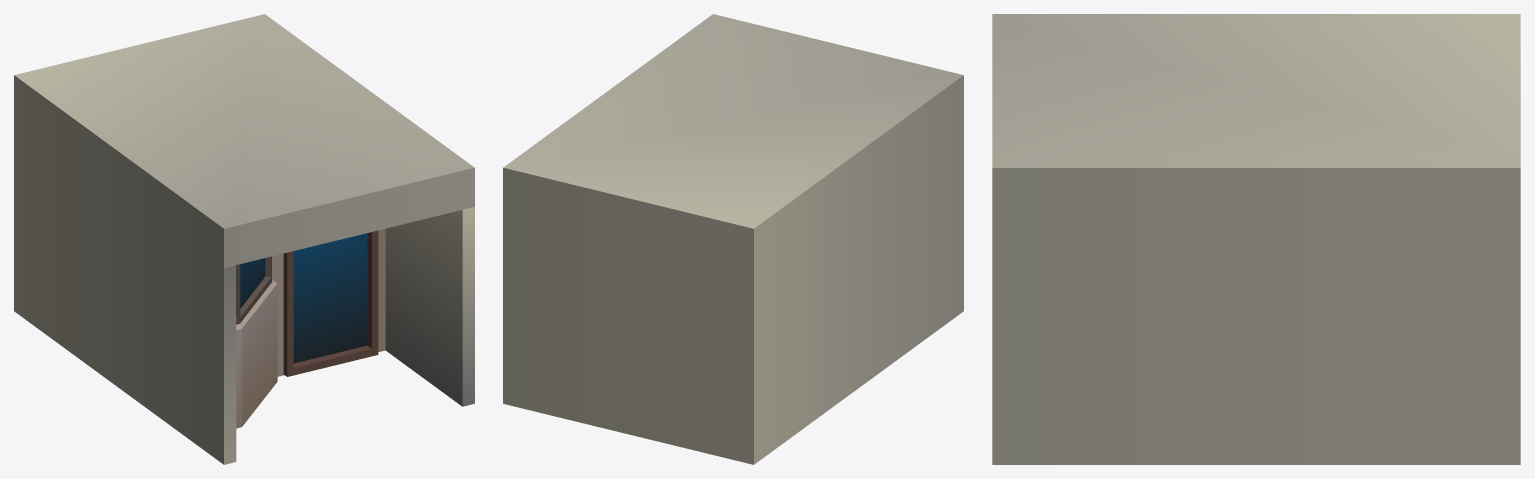
File: B02_devanture_3.fbx
3 views of the same model, side by side, from view 1: azimuth 30°, elevation 25°; view 2: azimuth 150°, elevation 25°; view 3: azimuth 270°, elevation 25° (orthographic). The views are drawn at different scales.
Parts seen in each view (by area): view 1: B02_devanture_3; view 2: B02_devanture_3; view 3: B02_devanture_3.
Part boxes in pixels (x1,y1,x2,y2): B02_devanture_3: (14, 14, 474, 464); B02_devanture_3: (503, 14, 963, 464); B02_devanture_3: (992, 14, 1520, 464).
Size of the model in its own units: 500 by 450 by 725.
